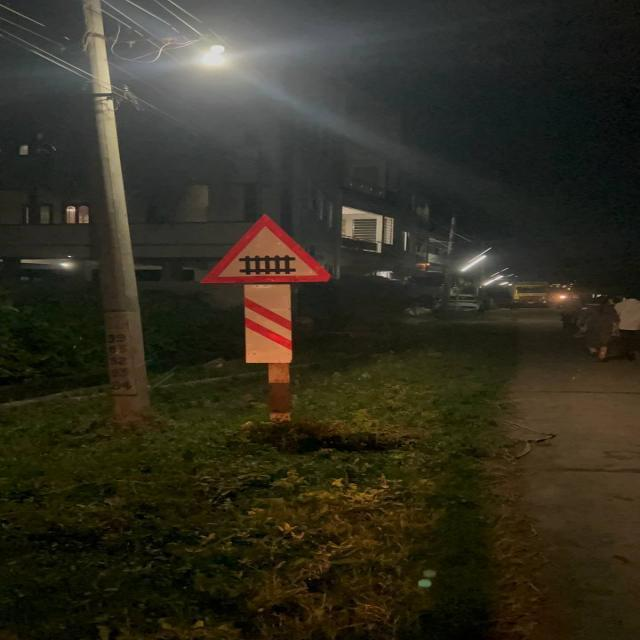guarded level crossing: (193, 209, 332, 284)
